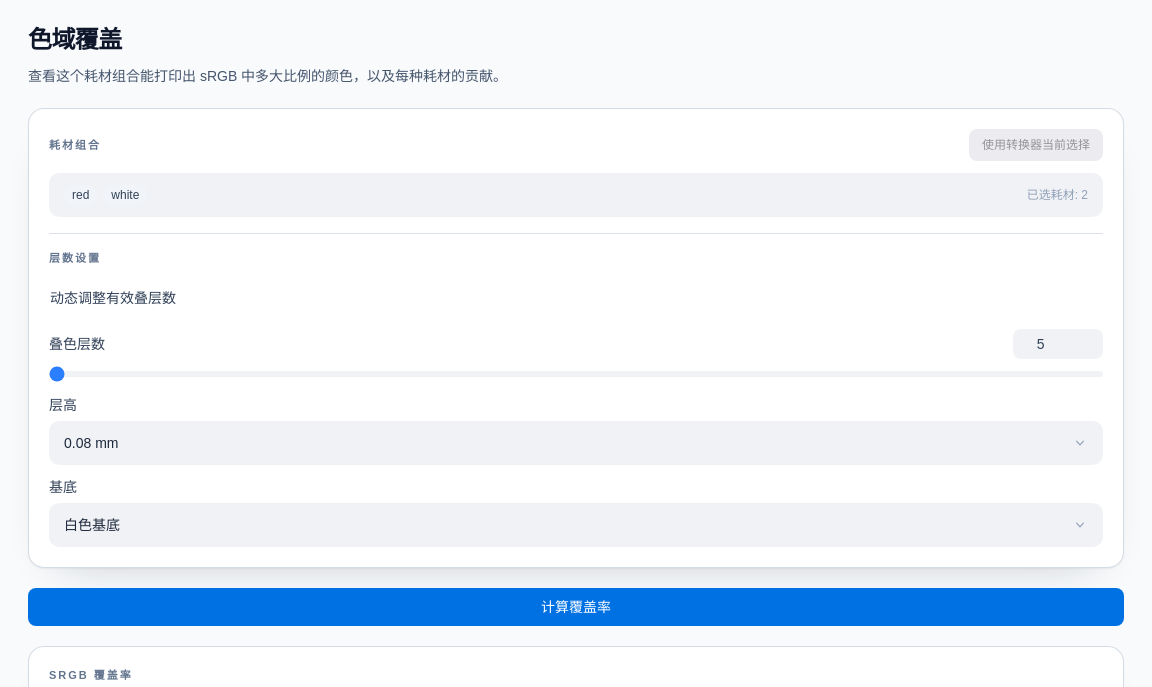
Test case: MaterialGamutPanel › clears an aborted contribution's loading state when recalculation fails
Earlier steps of the test are not shown.
Click the button "计算覆盖率". click: (576,606)
box: [28,588,1124,626]
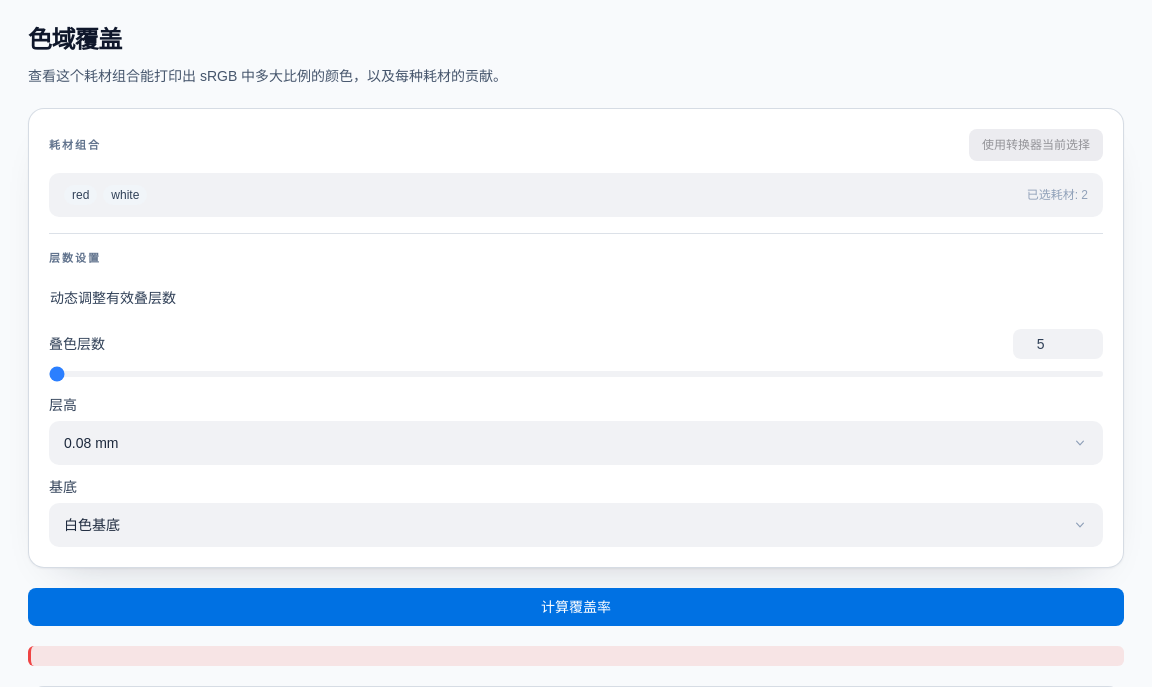
Expected: the element with test id "material-gamut-error" is shown, [28,646,1124,666]
